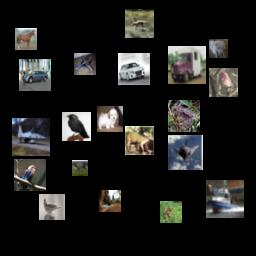airplane: (12, 118, 50, 156), (168, 135, 203, 170), (74, 53, 96, 75)
automobile: (19, 59, 51, 91), (118, 53, 150, 85)
bird: (14, 159, 46, 191), (209, 68, 238, 97), (62, 112, 91, 141), (39, 194, 65, 220), (72, 160, 88, 176)
deer: (125, 9, 154, 38), (125, 126, 154, 155)
dog: (97, 106, 123, 132), (209, 39, 228, 58)
frog: (168, 100, 200, 132), (160, 201, 182, 223)
ship: (206, 180, 244, 218)
truck: (168, 46, 206, 84)
